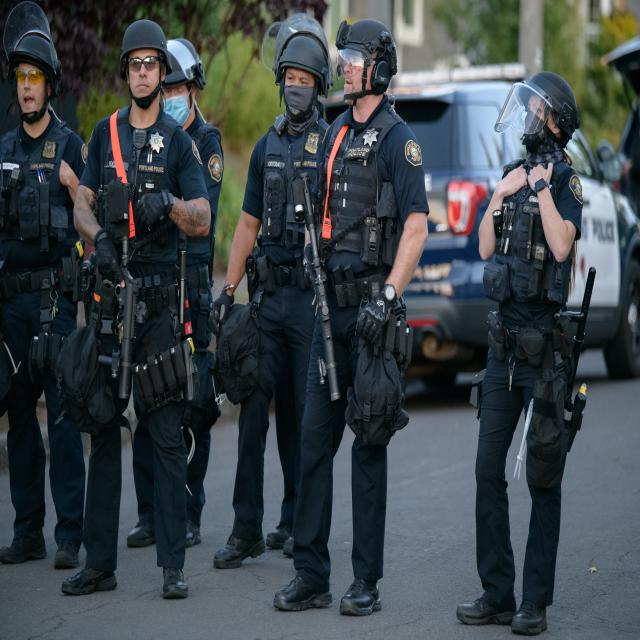police: (273, 10, 426, 617), (56, 16, 210, 612), (465, 61, 582, 640), (220, 11, 327, 586), (0, 23, 82, 567)
